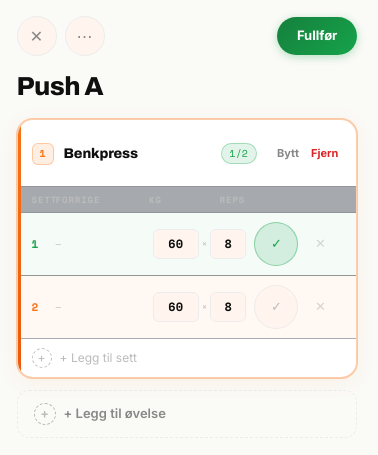
Test: WorkoutPage › Avbryt forkast tilbakestiller til ✕-knapp uten å kalle discardWorkout
This screenshot has width=378, height=455.
Click the button named "Forkast økt". click: (37, 36)
box: [17,16,57,56]
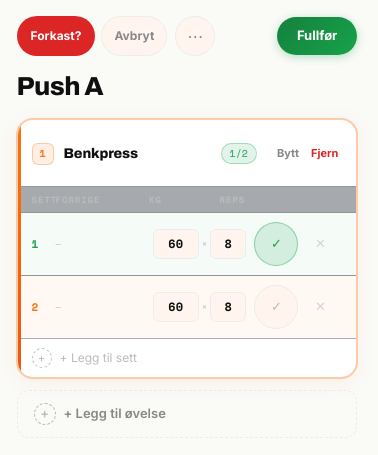
Now the button with aria-label "Bekreft forkast" is shown, box [17,16,96,56]
Click the button with aria-label "Avbryt forkast". click: (134, 36)
box: [102,16,167,56]
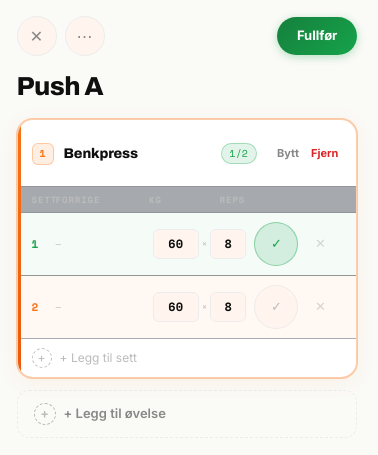
Now the button named "Forkast økt" is shown, box [17,16,57,56]
